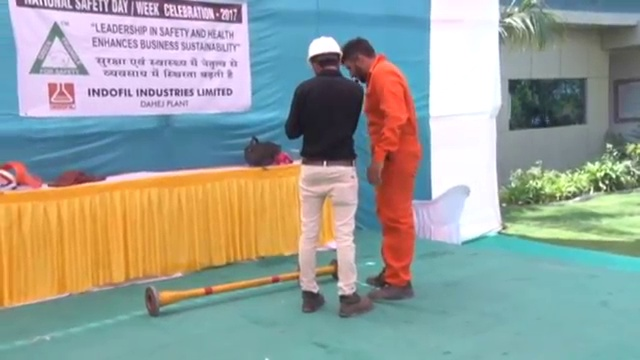helmet: (307, 35, 343, 64)
helmet_off: (340, 33, 376, 83)
helmet_on: (303, 35, 344, 80)
person: (283, 34, 372, 316), (342, 34, 422, 301)
